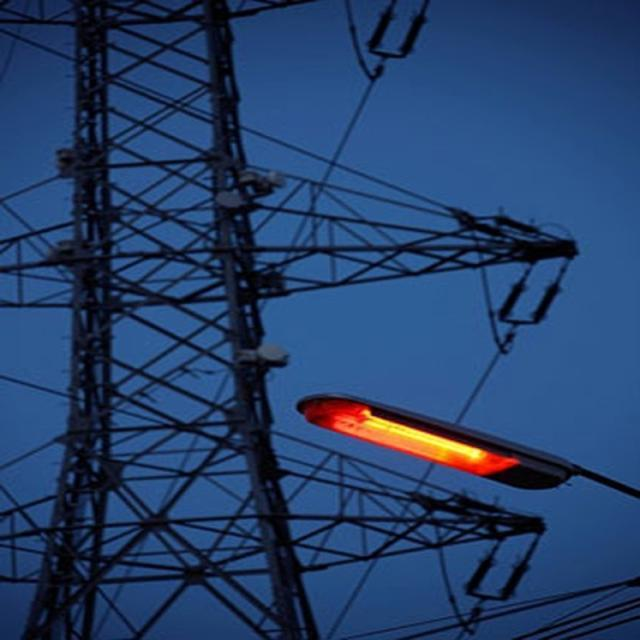non-critical vegetation: (6, 10, 580, 636)
